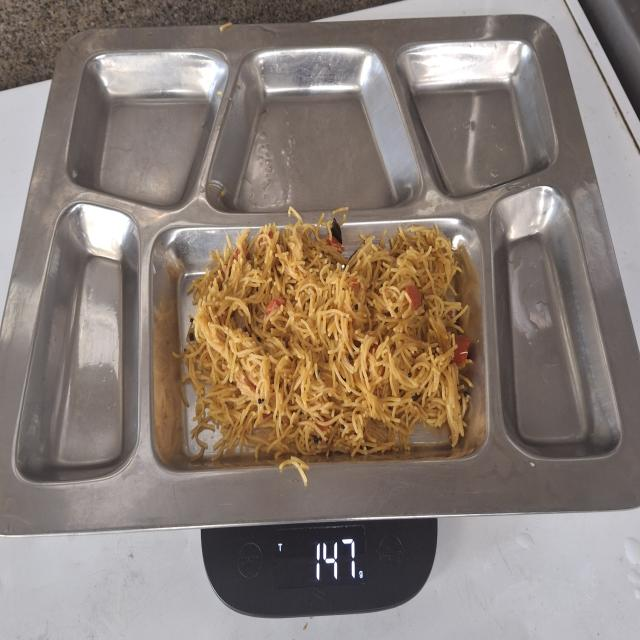Upma: (177, 217, 488, 478)
